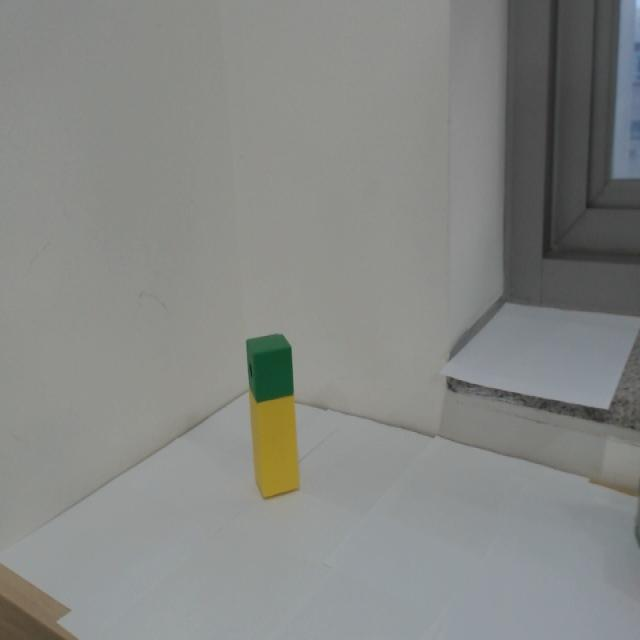cube: (246, 332, 294, 402)
